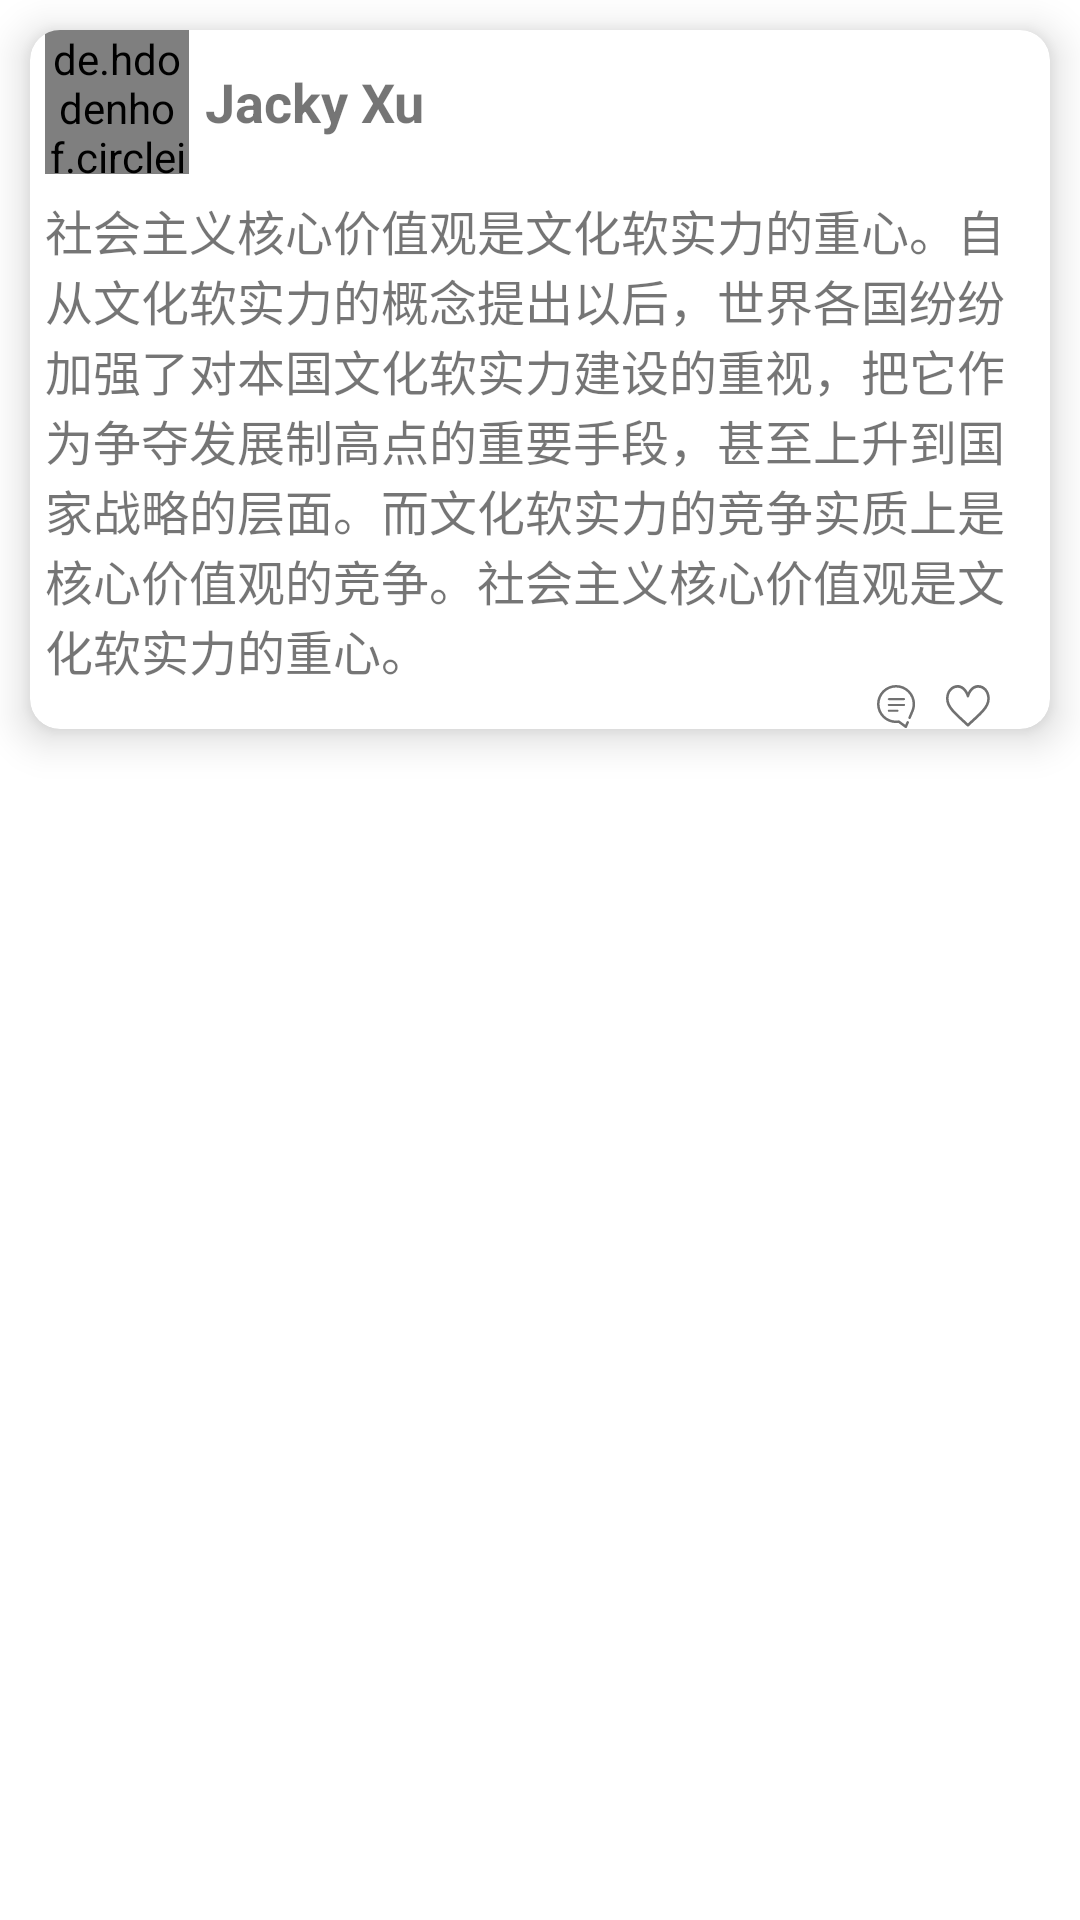

Screen size 1080x1920. Icon name, then its center in pixels as [x,y]:
love: [968,706]
speech bubble comment: [896,706]
